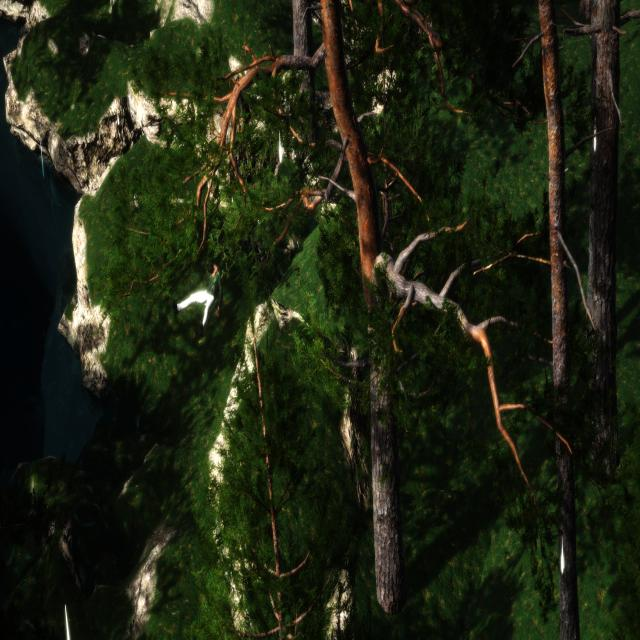Human: (167, 246, 227, 342)
